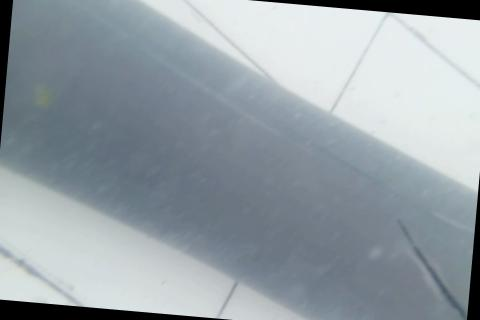keretakan: (389, 218, 475, 320)
